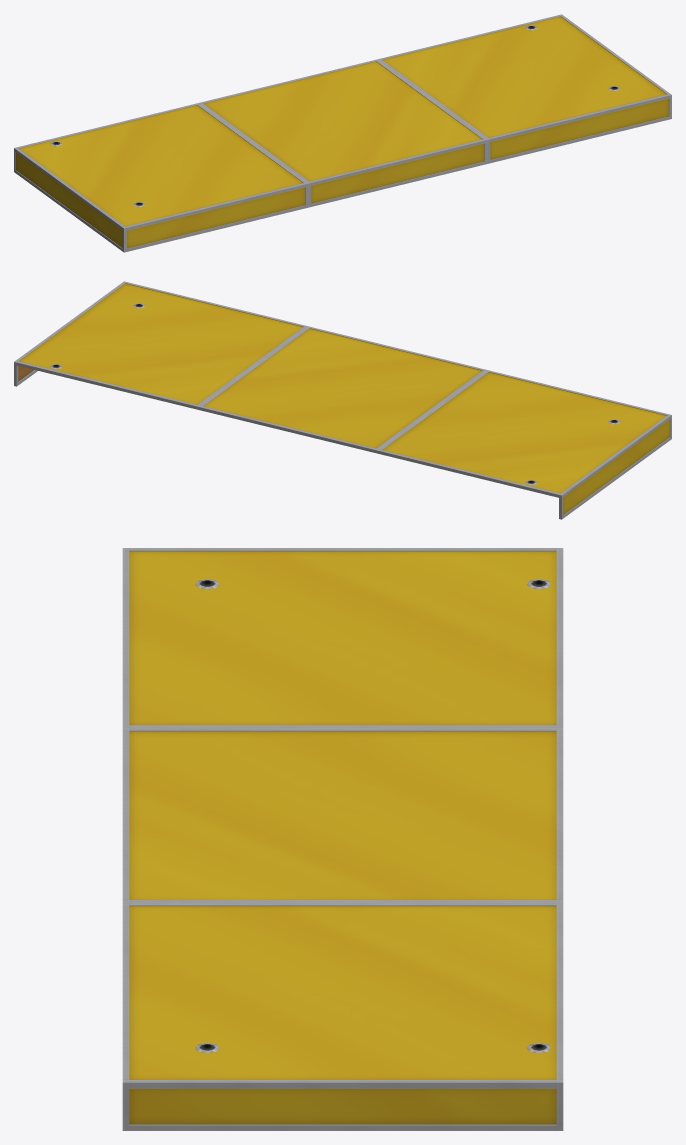
Rendered from jsf_4P_s03_c03_t01_DX.fbx.
3 renders of one model, top to bottom at view 1: azimuth 30°, elevation 25°; view 2: azimuth 150°, elevation 25°; view 3: azimuth 270°, elevation 25°, orthographic. The views are drawn at different scales.
Parts seen in each view (by area): view 1: jsf_4P_s03_c03_t01_DX; view 2: jsf_4P_s03_c03_t01_DX; view 3: jsf_4P_s03_c03_t01_DX.
Part boxes in pixels (left/top/right/bottom): jsf_4P_s03_c03_t01_DX: left=14, top=14, right=671, bottom=252; jsf_4P_s03_c03_t01_DX: left=14, top=281, right=671, bottom=519; jsf_4P_s03_c03_t01_DX: left=122, top=548, right=563, bottom=1130.
Bounding box in the file's own units: 298 × 12.99 × 104.
